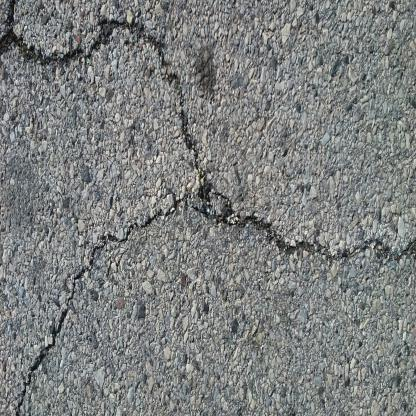Cracks: (16, 186, 416, 416), (0, 0, 217, 194)
